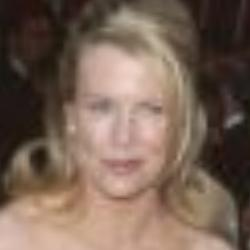face: (29, 2, 221, 209)
